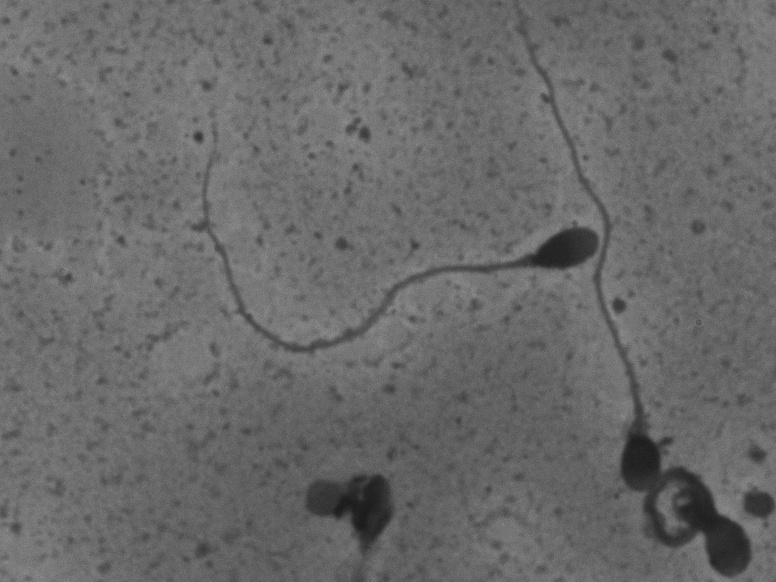Abnormal: (652, 480, 767, 581)
Normal: (191, 110, 601, 363), (510, 11, 669, 500)
